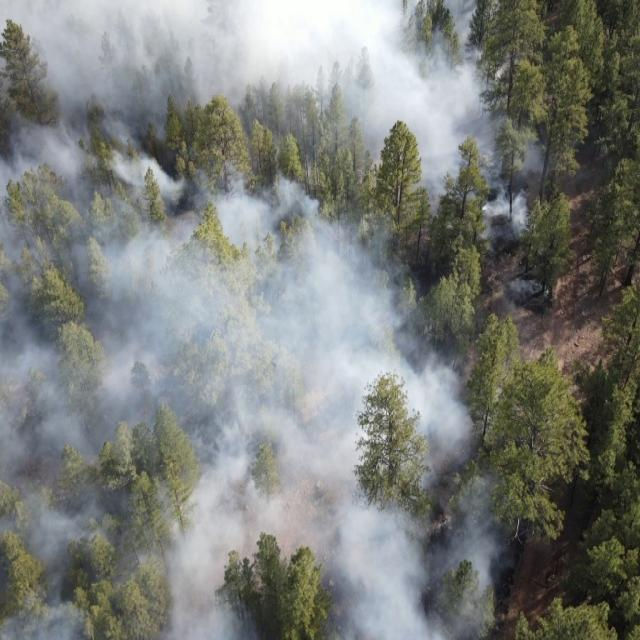smoke: (0, 0, 500, 640), (499, 128, 554, 252)
